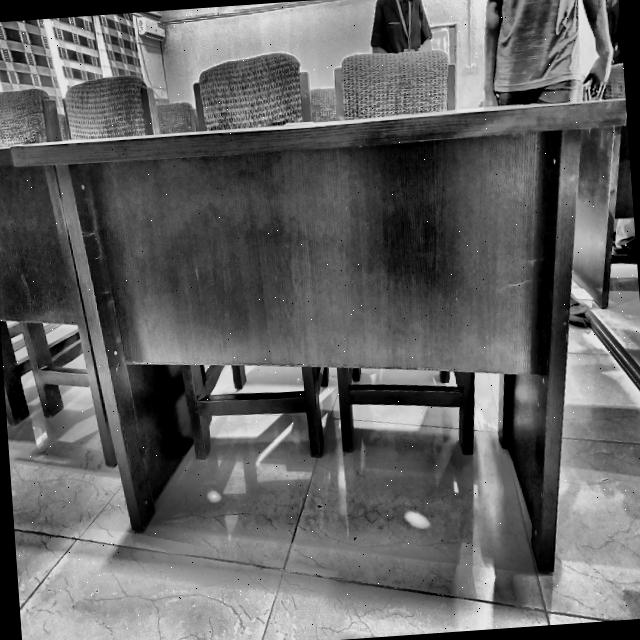table: (1, 93, 640, 610)
